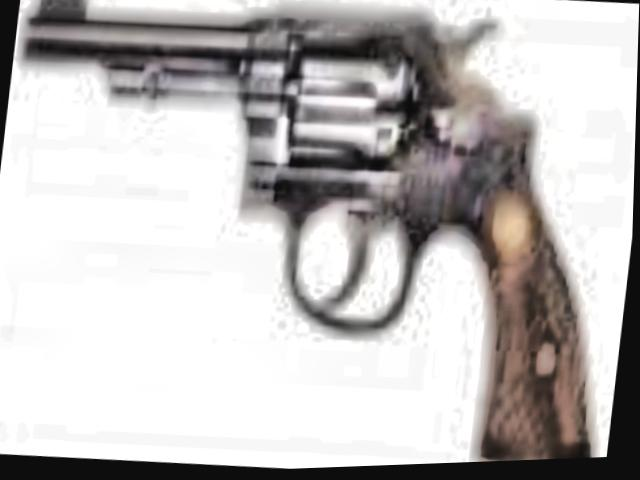pistol: (0, 0, 636, 480)
